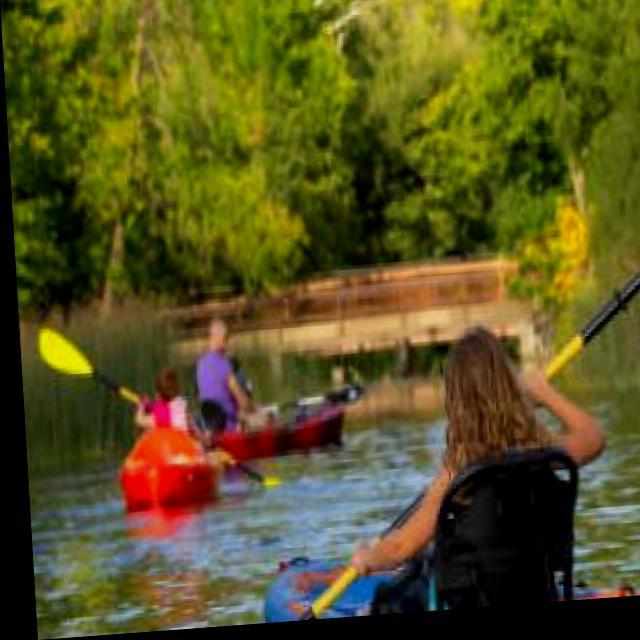kayak: (115, 430, 210, 511), (257, 564, 327, 627)
